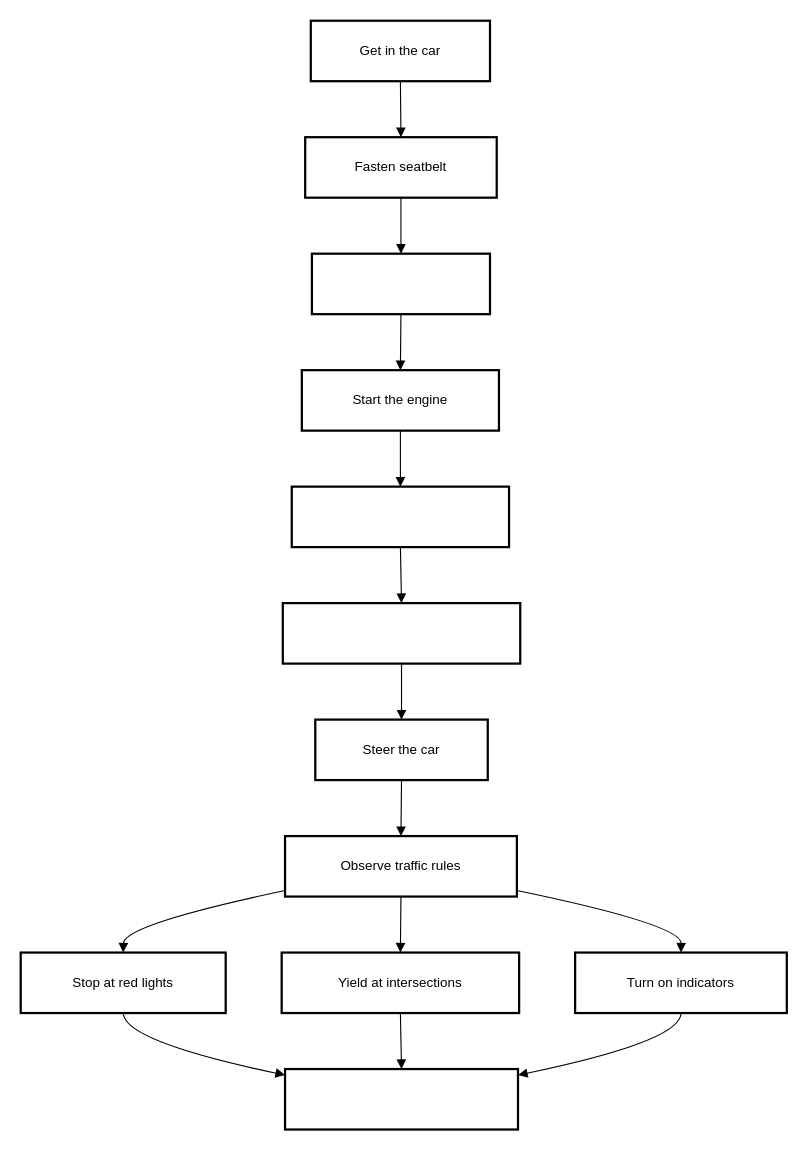
The diagram is 806 pixels wide and 1149 high, and some of its shapes have lost their labels. Each missing label, with the centre of its shape:
"Arrive at destination" goes at point 401,1098.
"Check mirrors" goes at point 400,283.
"Press the accelerator" goes at point 401,632.
"Put the car in gear" goes at point 400,516.
